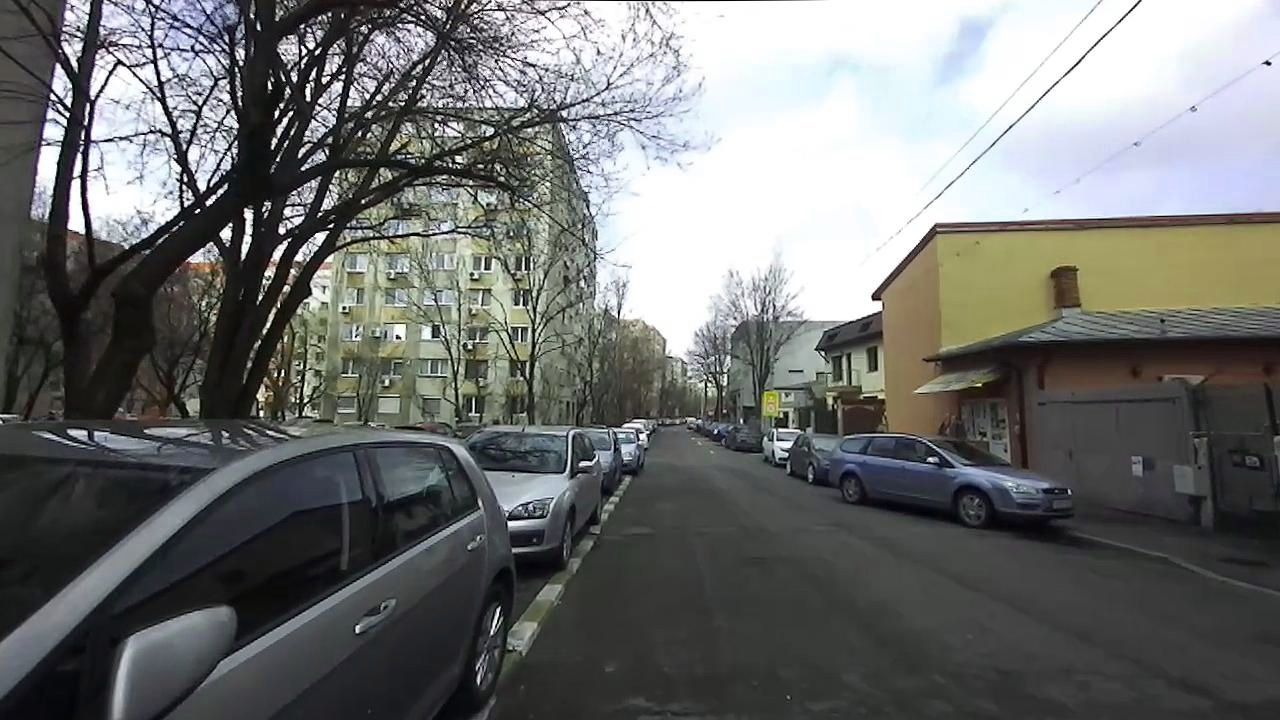pothole: (614, 692, 726, 719)
